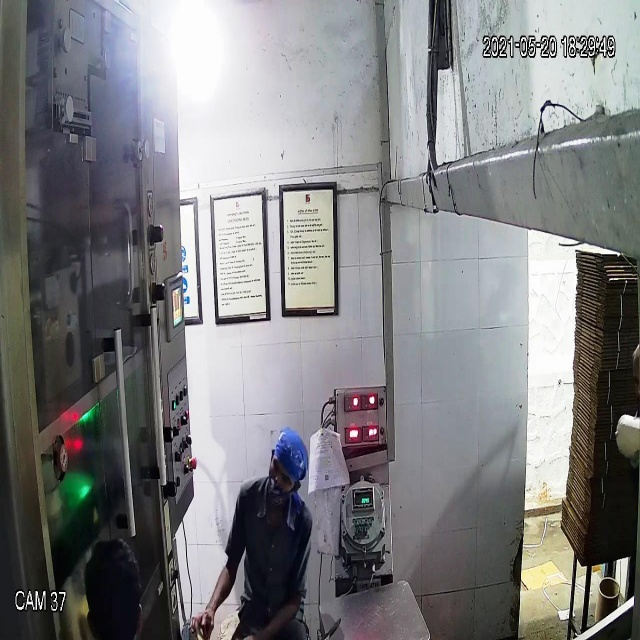Sin_gafas: (263, 455, 298, 490)
